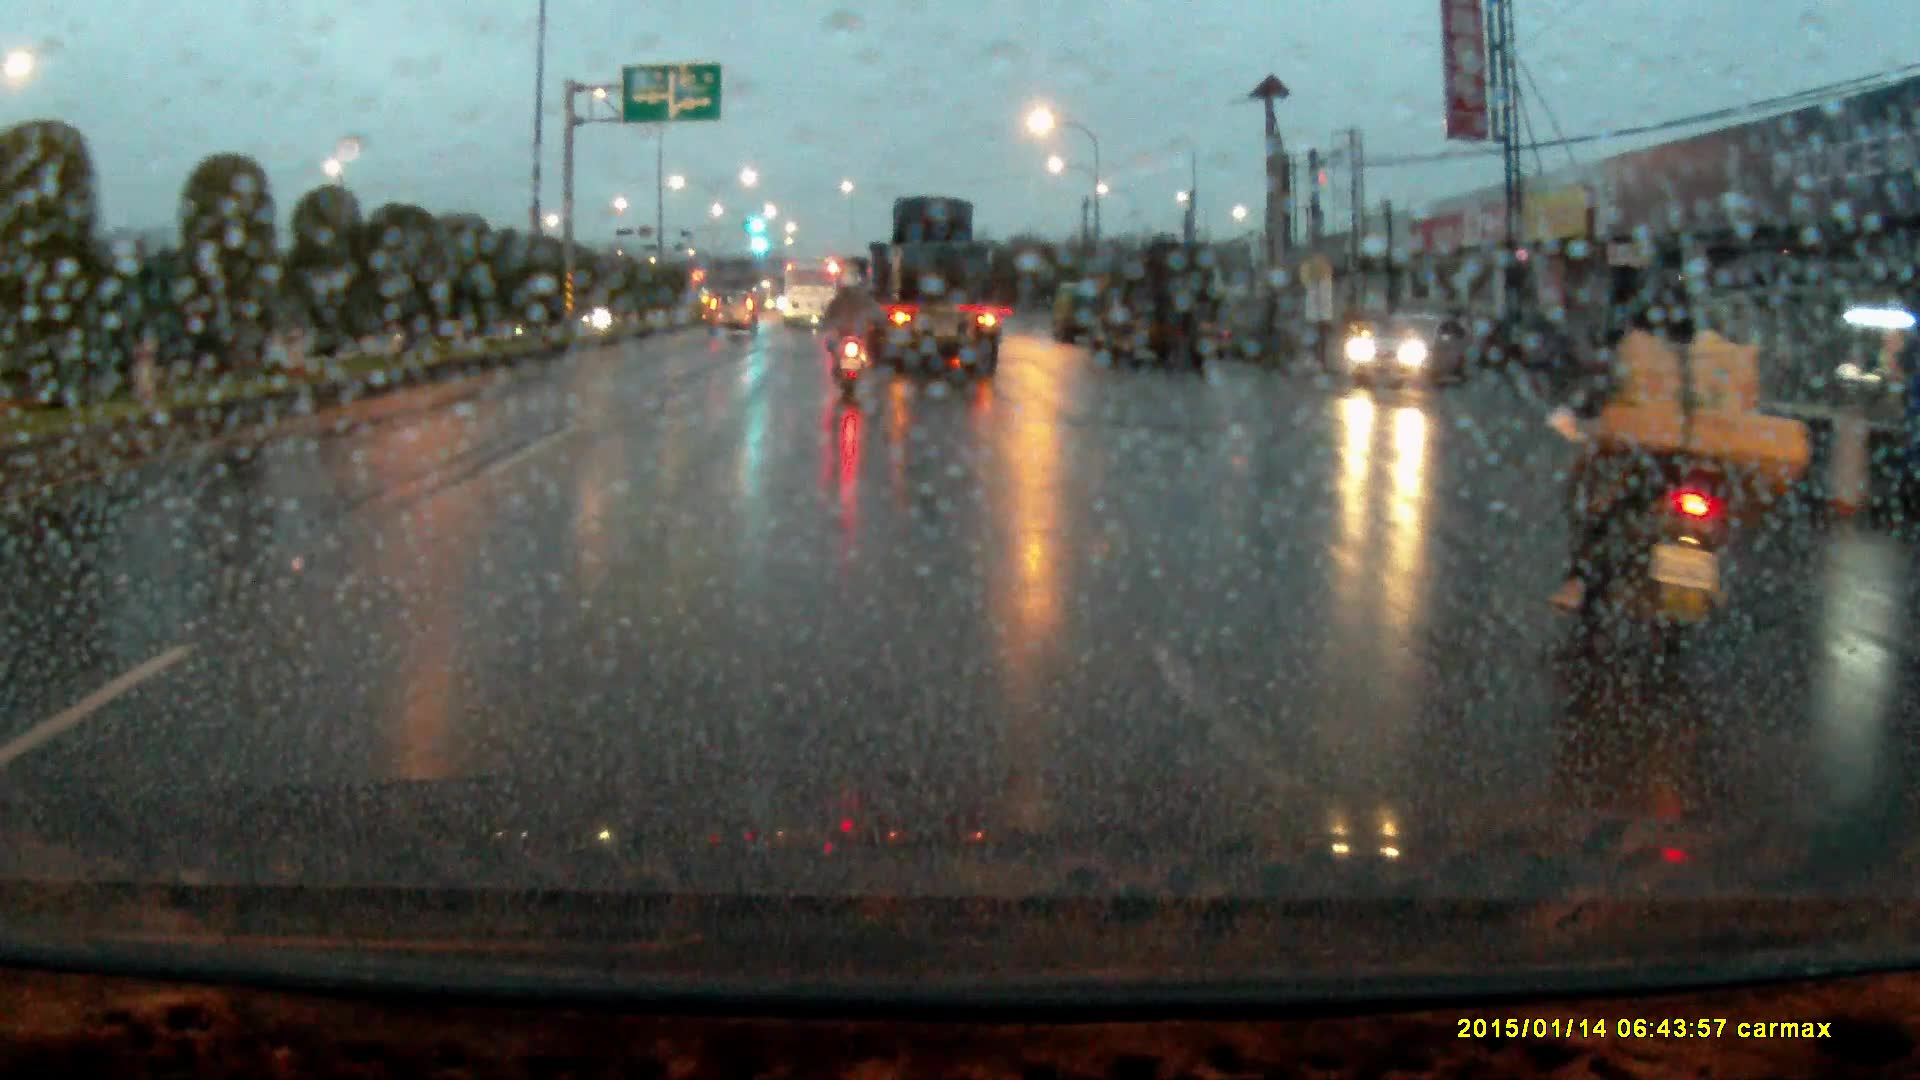rider: (1542, 249, 1827, 669), (824, 271, 880, 397)
vehicle: (1738, 279, 1920, 518), (858, 196, 996, 375), (1098, 240, 1234, 372), (1346, 313, 1471, 391), (784, 263, 850, 331), (1052, 280, 1104, 342), (708, 288, 760, 339)
